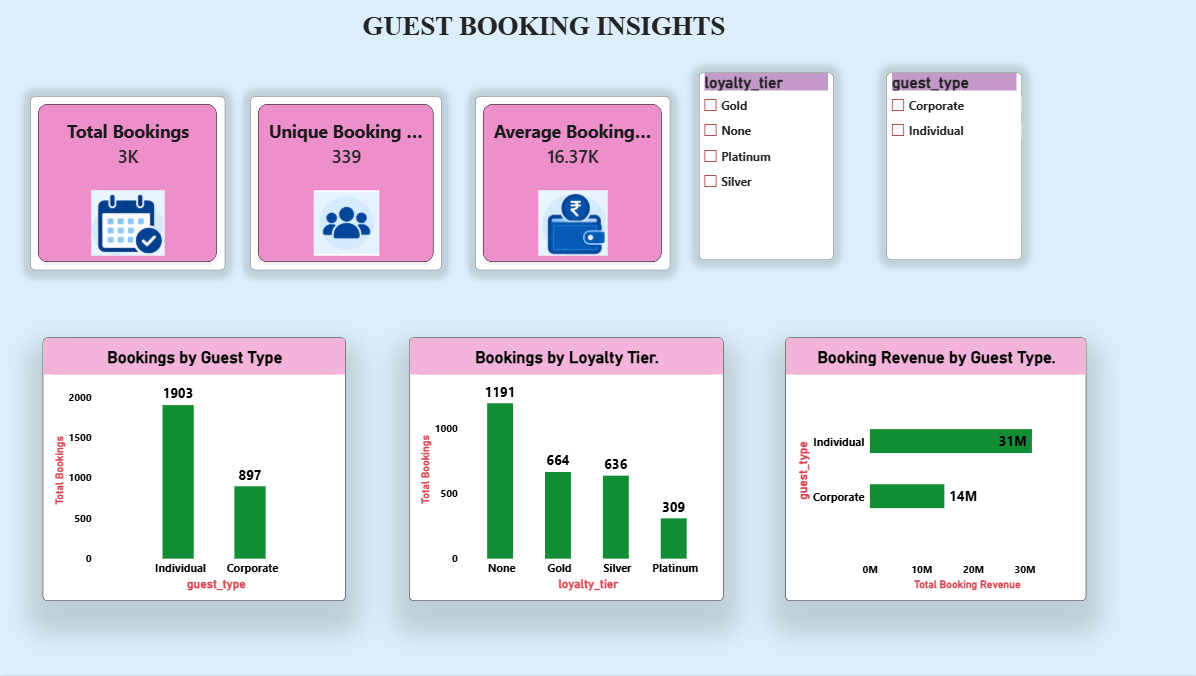

What the dashboard file says about the page in this screenshot:
{"tool":"powerbi","page":{"name":"guest booking insights","canvas":[1920,1080],"ordinal":3},"visuals":[{"type":"textbox","box":[350,16.7,1043.3,66.7],"z":0},{"type":"cardVisual","fields":{"Data":["bookings.Total Bookings"]},"box":[50,153.3,311.7,278.3],"z":1},{"type":"cardVisual","fields":{"Data":["bookings.Unique Booking Guests"]},"box":[401.7,153.3,306.7,278.3],"z":2},{"type":"cardVisual","fields":{"Data":["bookings.Average Booking Value"]},"box":[761.7,153.3,311.7,278.3],"z":3},{"type":"clusteredColumnChart","title":"Bookings by Guest Type","fields":{"Category":["guests.guest_type"],"Y":["bookings.Total Bookings"]},"box":[70,540,485,421.7],"z":4},{"type":"clusteredColumnChart","title":"Bookings by Loyalty Tier.","fields":{"Category":["guests.loyalty_tier"],"Y":["bookings.Total Bookings"]},"box":[656.7,540,503.3,421.7],"z":5},{"type":"clusteredBarChart","title":"Booking Revenue by Guest Type.","fields":{"Category":["guests.guest_type"],"Y":["bookings.Total Booking Revenue"]},"box":[1258.3,540,481.7,421.7],"z":6},{"type":"slicer","fields":{"Values":["guests.loyalty_tier"]},"box":[1120,116.7,215,300],"z":7},{"type":"slicer","fields":{"Values":["guests.guest_type"]},"box":[1420,116.7,216.7,300],"z":8}]}

Visuals, with their boxes in screenshot pixels (x1, y1, x2, y2), scaled from the page's 1920x1080 canvas onto the 1196x676 screenshot:
textbox: detection(218, 10, 868, 52)
cardVisual - bookings.Total Bookings: detection(31, 96, 225, 270)
cardVisual - bookings.Unique Booking Guests: detection(250, 96, 441, 270)
cardVisual - bookings.Average Booking Value: detection(474, 96, 669, 270)
"Bookings by Guest Type" clusteredColumnChart: detection(44, 338, 346, 602)
"Bookings by Loyalty Tier." clusteredColumnChart: detection(409, 338, 723, 602)
"Booking Revenue by Guest Type." clusteredBarChart: detection(784, 338, 1084, 602)
slicer - guests.loyalty_tier: detection(698, 73, 832, 261)
slicer - guests.guest_type: detection(885, 73, 1020, 261)
